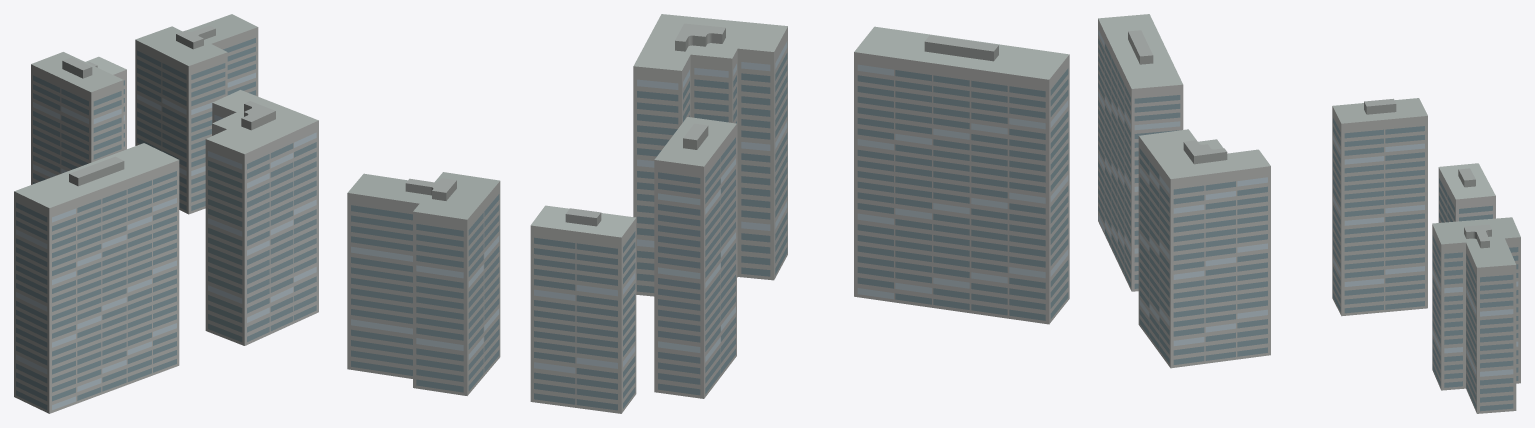
Rendered from apt-a13611002.glb.
The picture shows the model from 3 angles, left to right: view 1: azimuth 30°, elevation 25°; view 2: azimuth 150°, elevation 25°; view 3: azimuth 270°, elevation 25°; orthographic projection. The views are drawn at different scales.
Parts seen in each view (by area): view 1: apt-a13611002; view 2: apt-a13611002; view 3: apt-a13611002.
Boxes of the visible parts, x1=… form: apt-a13611002: x1=14, y1=14, x2=318, y2=413; apt-a13611002: x1=347, y1=14, x2=1069, y2=413; apt-a13611002: x1=1098, y1=14, x2=1520, y2=413.
Size of the model in its own units: 124 by 62 by 113.
